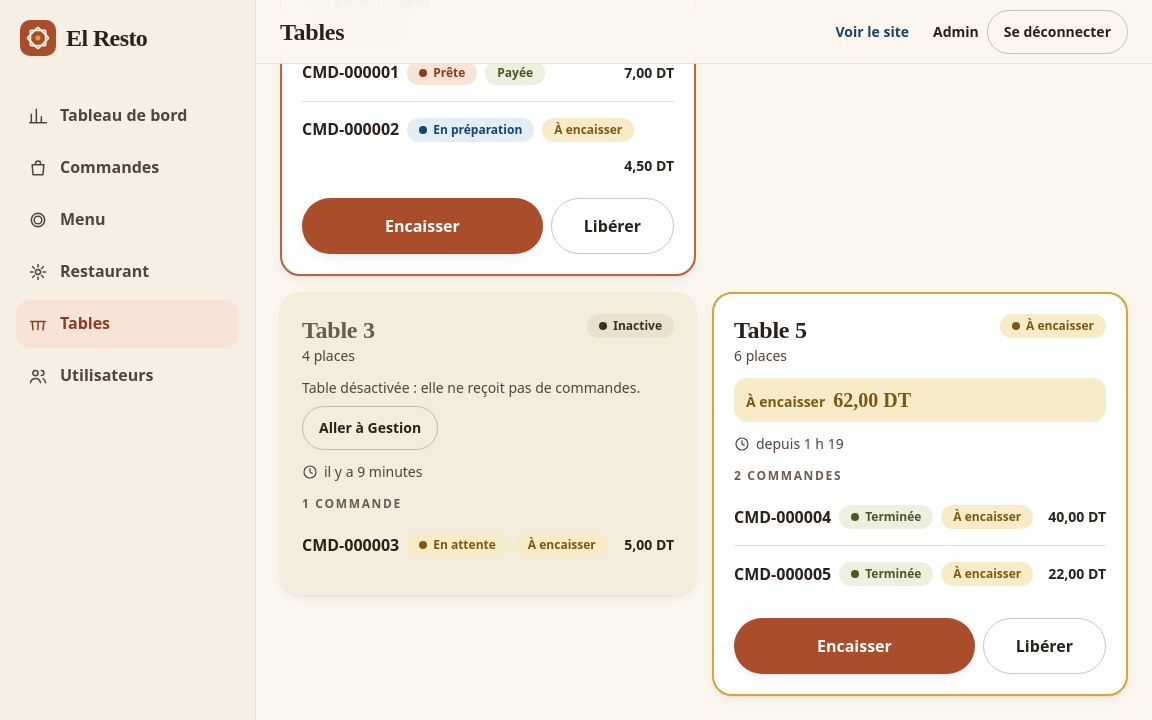
it: Salle : encaisser et libérer › encaisser : la confirmation affiche le montant, rien n'est envoyé avant de confirmer
This screenshot has width=1152, height=720.
(page scrolled)
Check: the heading "Table 5" is shown, box [734, 314, 807, 346]
Step 1. Click the button "Encaisser" below "Table 5" → (854, 646), box [734, 618, 975, 674]
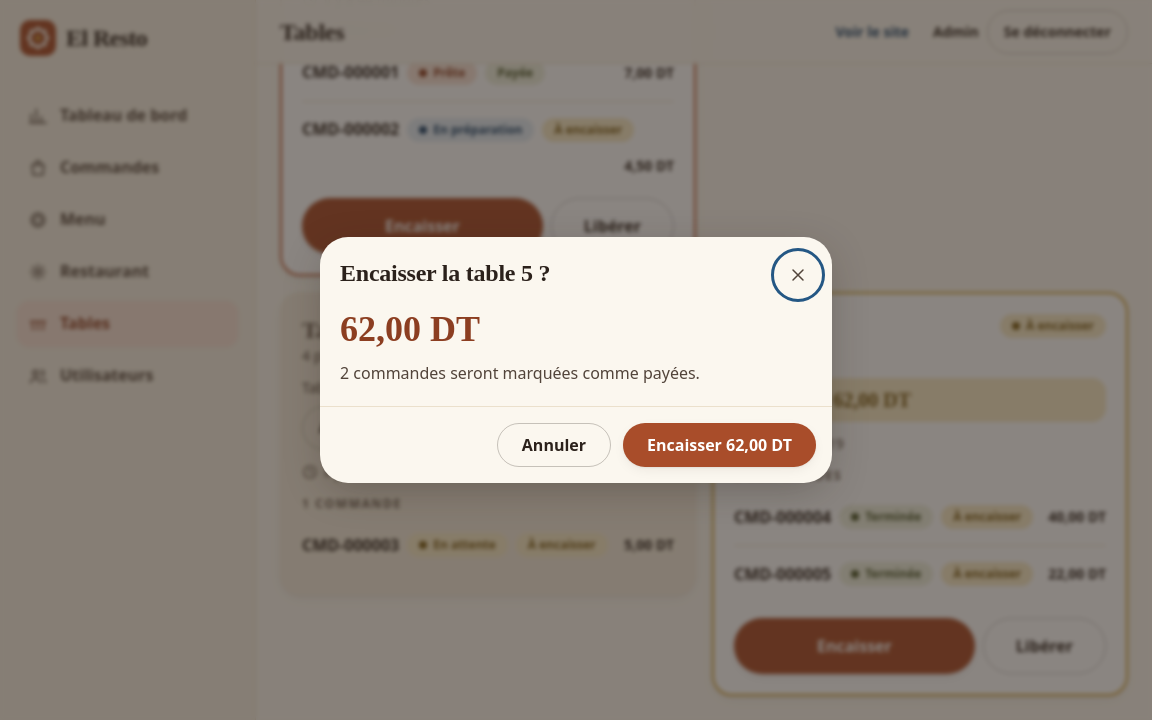
Check: the text "62,00 DT" is shown, box [340, 309, 480, 349]
Check: the text "2 commandes seront marquées comme payées." is shown, box [340, 362, 700, 384]
Step 2. Click the button "Encaisser 62,00 DT" → (720, 445), box [623, 423, 816, 467]
(page scrolled)
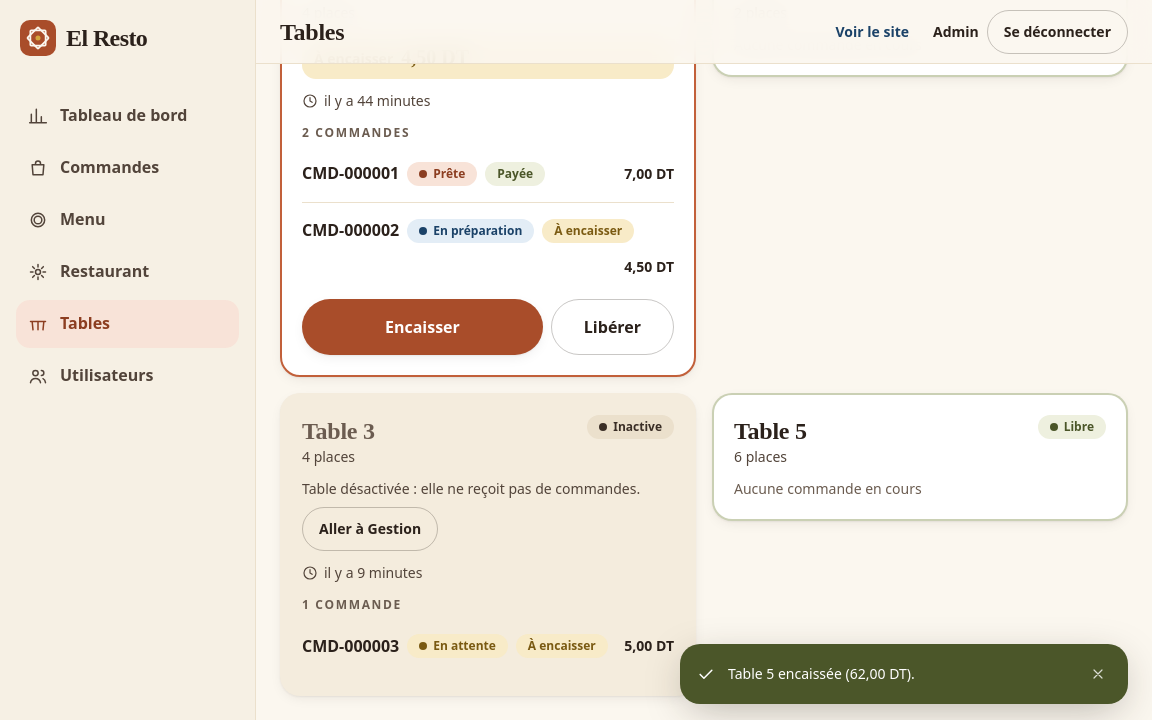
Check: the text "Table 5 encaissée (62,00 DT)." is shown, box [728, 664, 915, 683]
